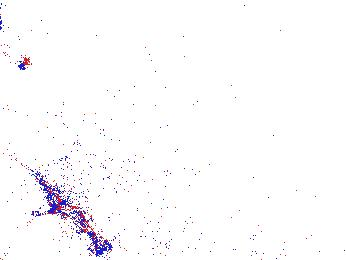glassfish: (81, 154, 188, 205)
siberian prawn: (21, 166, 103, 246)
